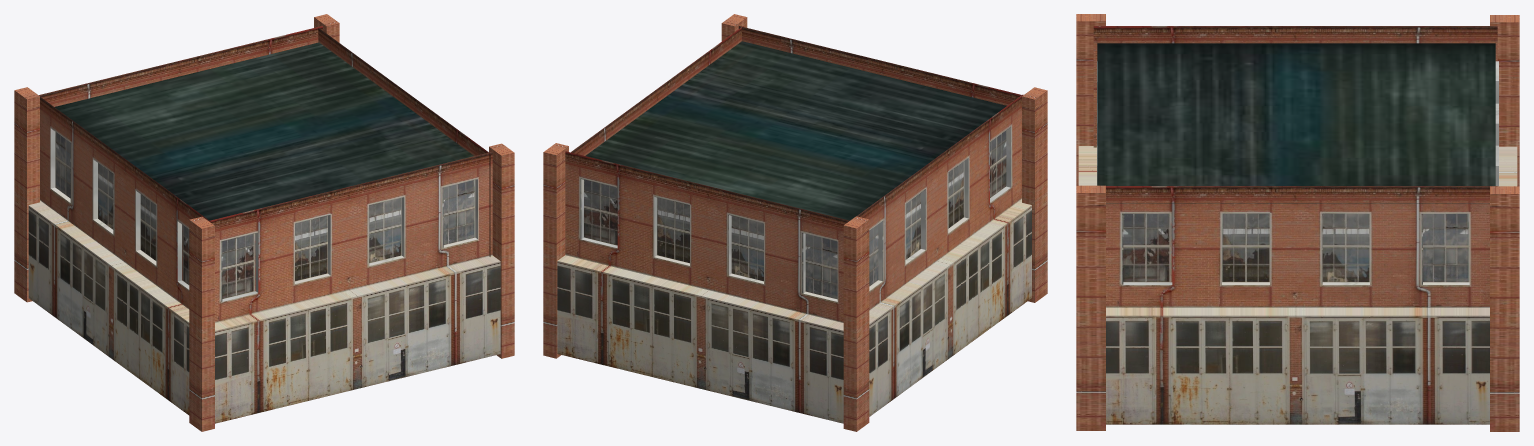
3 renders of one model, left to right at view 1: azimuth 30°, elevation 25°; view 2: azimuth 150°, elevation 25°; view 3: azimuth 270°, elevation 25°, orthographic. The views are drawn at different scales.
Parts seen in each view (by area): view 1: Cube.020; view 2: Cube.020; view 3: Cube.020.
Boxes of the visible parts, x1,y1,x2,y2 form: Cube.020: [14, 14, 514, 431]; Cube.020: [543, 14, 1047, 431]; Cube.020: [1076, 14, 1519, 431].
Size of the model in its own units: 2.88 by 1.78 by 3.
2 materials, 2 textured.
